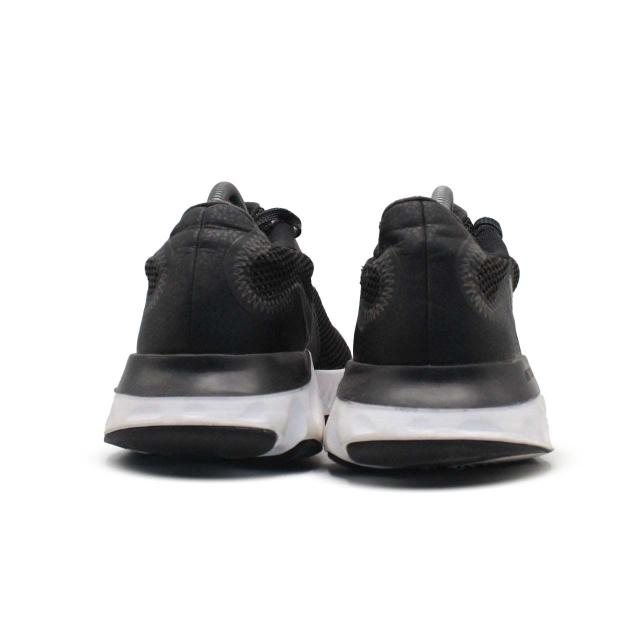heel: (129, 175, 304, 356), (348, 190, 523, 362)
midsole: (334, 368, 551, 470), (116, 357, 315, 455)
